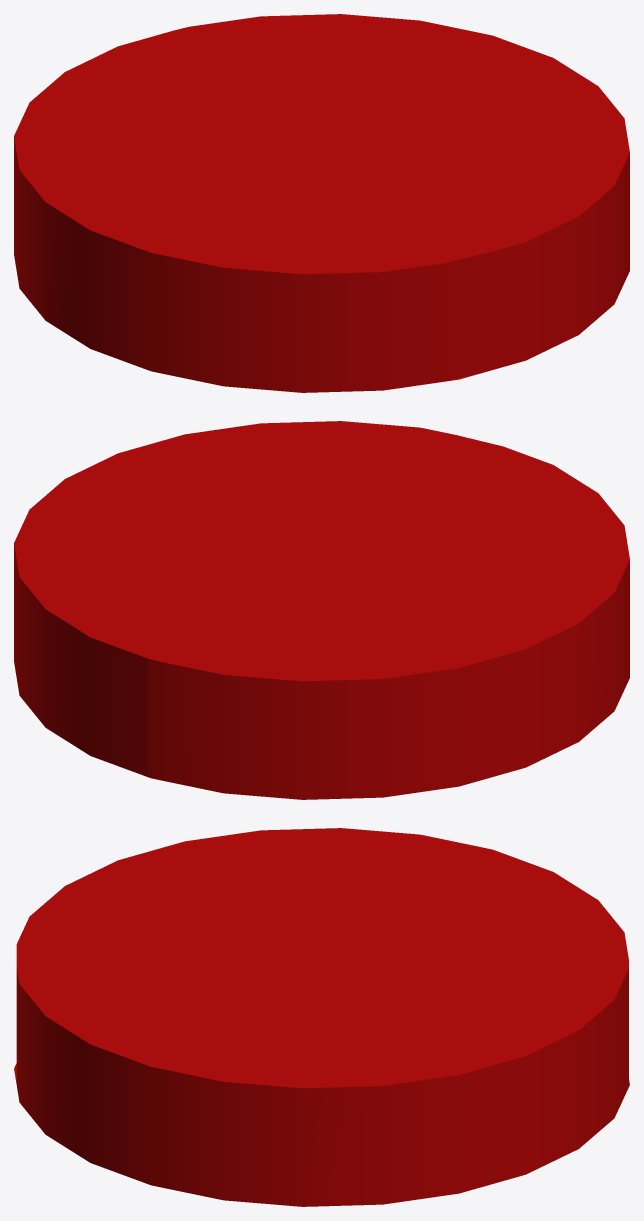
Rendered from PortalR.FBX.
3 renders of one model, top to bottom at view 1: azimuth 30°, elevation 25°; view 2: azimuth 150°, elevation 25°; view 3: azimuth 270°, elevation 25°, orthographic.
Visible parts, largest first — view 1: Layer0_001; view 2: Layer0_001; view 3: Layer0_001.
Boxes of the visible parts, x1,y1,x2,y2 form: Layer0_001: [14, 14, 629, 392]; Layer0_001: [14, 421, 629, 799]; Layer0_001: [14, 828, 629, 1206].
Size of the model in its own units: 478 by 102 by 478.
